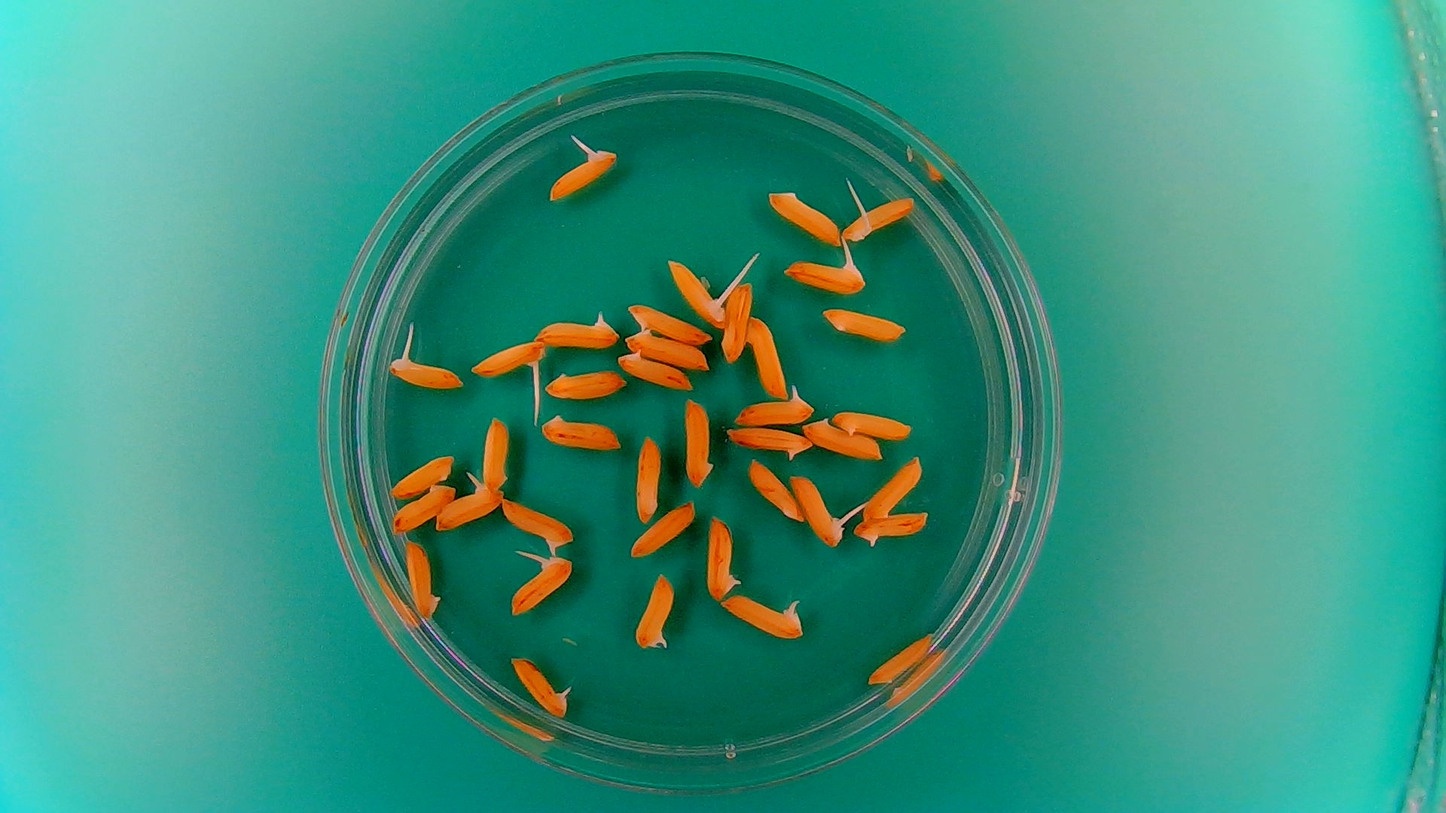no: (764, 187, 844, 246), (860, 453, 923, 524), (628, 498, 697, 559), (865, 630, 935, 687), (745, 457, 804, 523), (536, 410, 626, 452), (802, 416, 884, 462), (746, 312, 789, 399), (819, 303, 908, 344), (624, 328, 707, 371), (389, 480, 456, 533), (403, 536, 442, 622), (615, 349, 692, 392), (541, 365, 627, 402), (682, 395, 715, 489), (389, 452, 456, 498), (721, 277, 755, 364), (474, 413, 511, 492), (633, 432, 663, 525)
yes: (495, 495, 577, 564), (667, 254, 733, 330), (505, 651, 573, 719), (717, 590, 807, 641), (505, 553, 573, 618), (789, 476, 846, 550), (545, 147, 620, 203), (532, 308, 624, 352), (839, 192, 917, 243), (434, 482, 502, 537), (627, 300, 710, 344), (633, 570, 677, 653), (722, 422, 813, 462), (469, 336, 548, 382), (730, 386, 816, 428), (703, 512, 743, 601), (781, 257, 865, 296), (388, 351, 465, 391), (854, 509, 933, 547)
